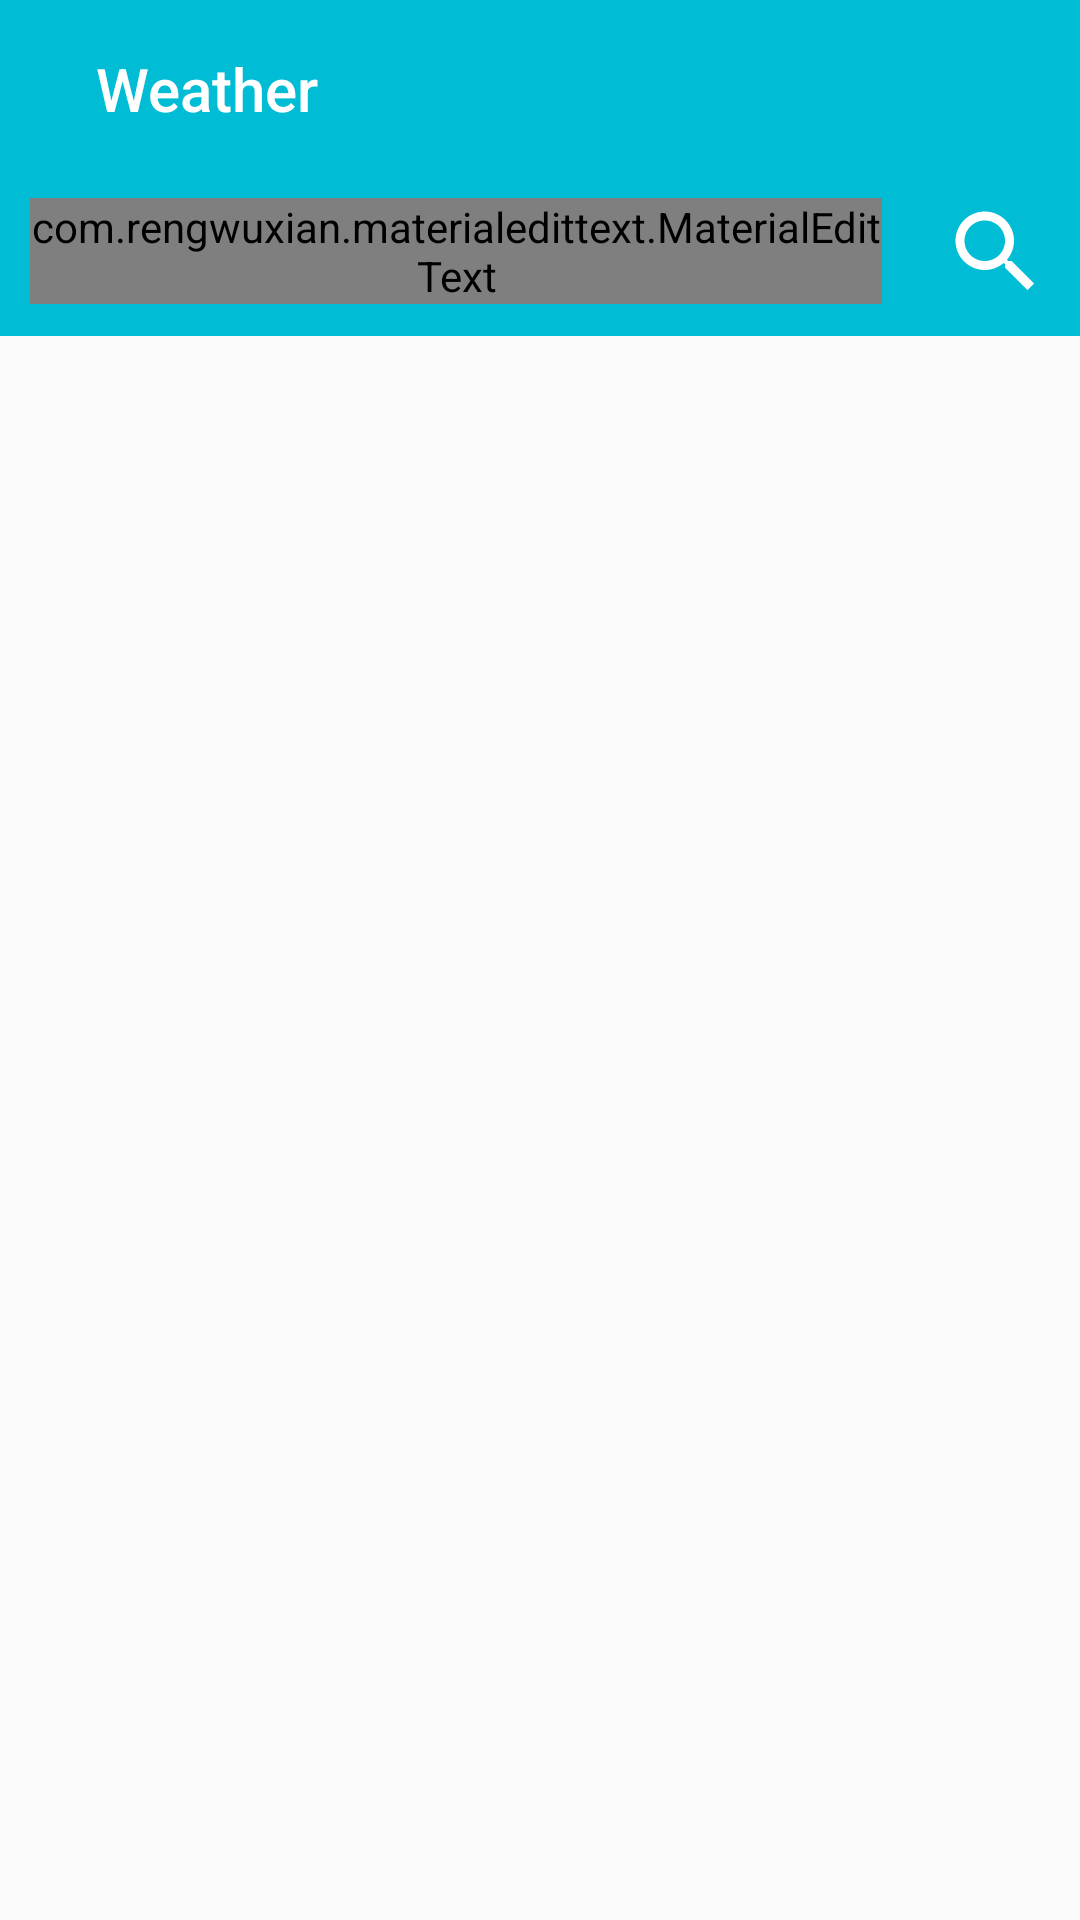

Icons on this 1080px×1920px Android screen, each with the point to tap as point (x, y):
Поиск: point (994, 250)
